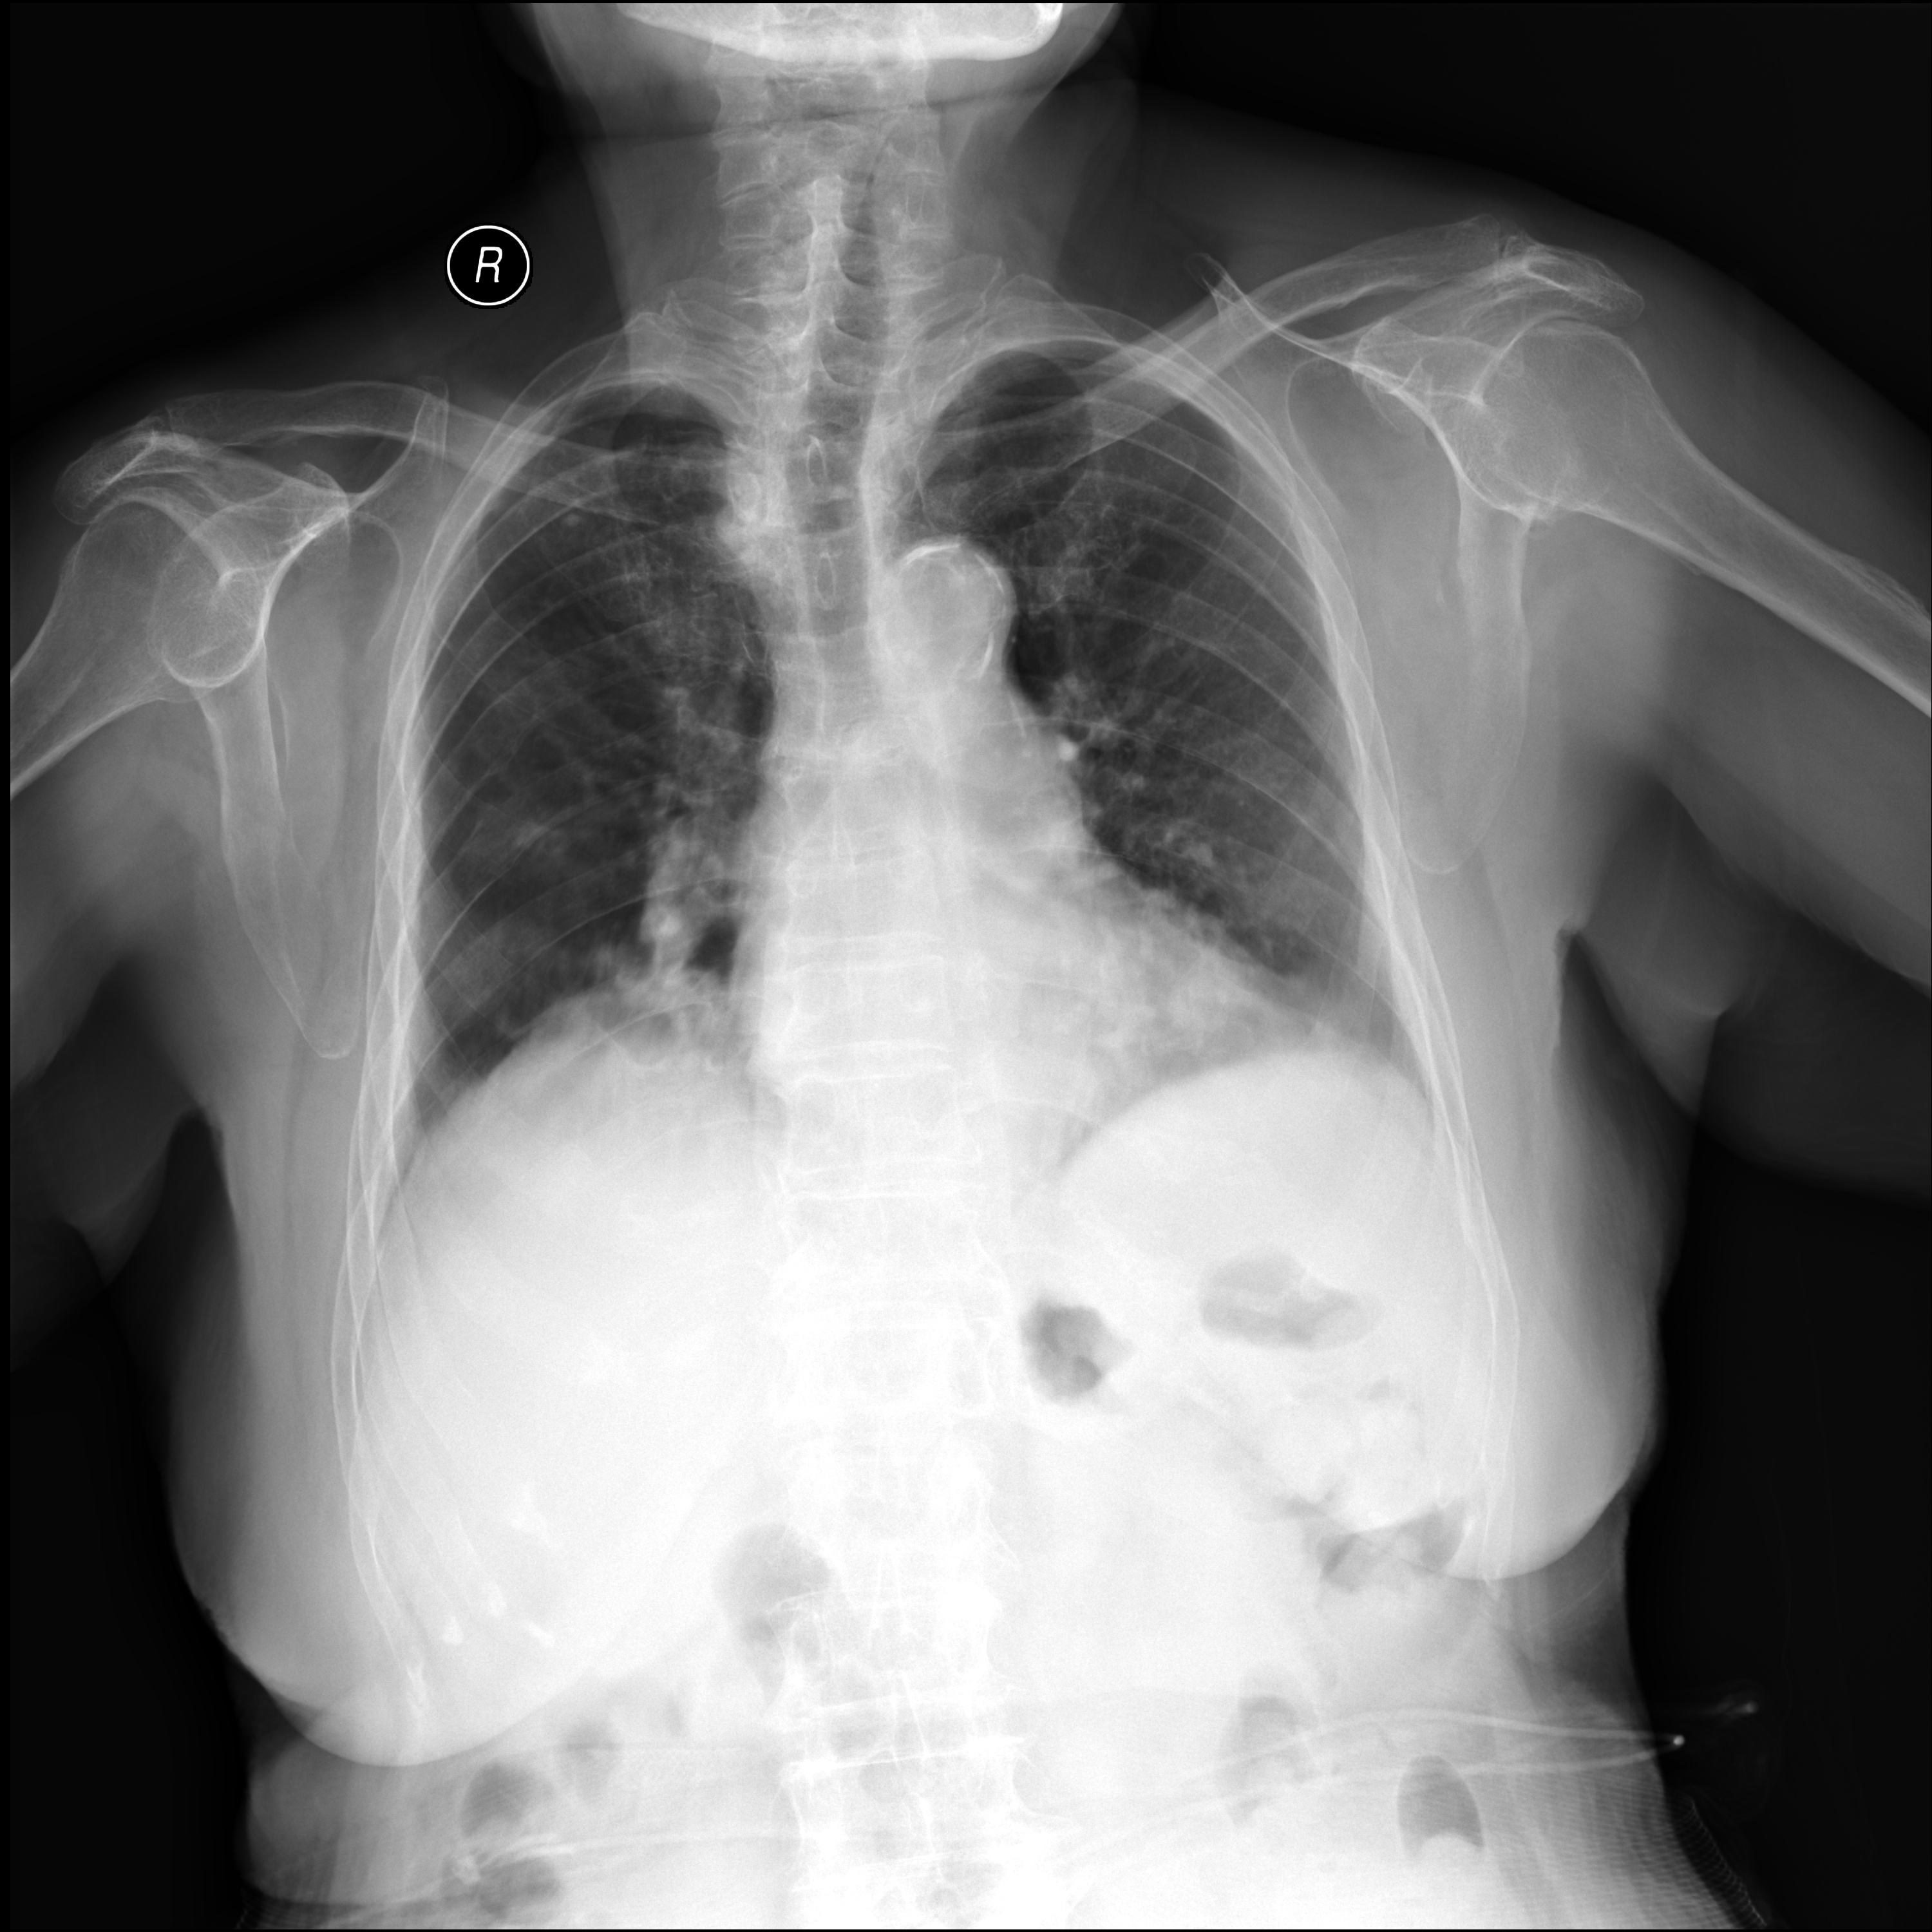nodule: (483, 782, 589, 885), (533, 478, 619, 561)
